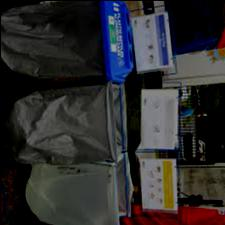Plastic: (3, 84, 122, 163), (1, 0, 105, 80), (16, 157, 131, 224)
